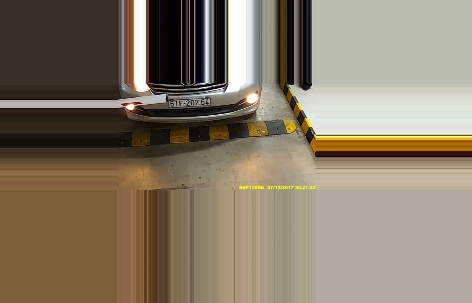plate: (167, 95, 211, 110)
